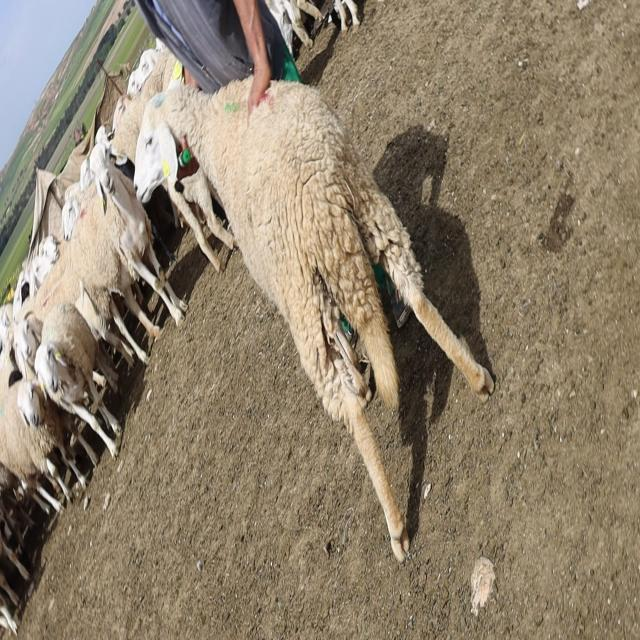Score_2: (134, 77, 494, 563)
